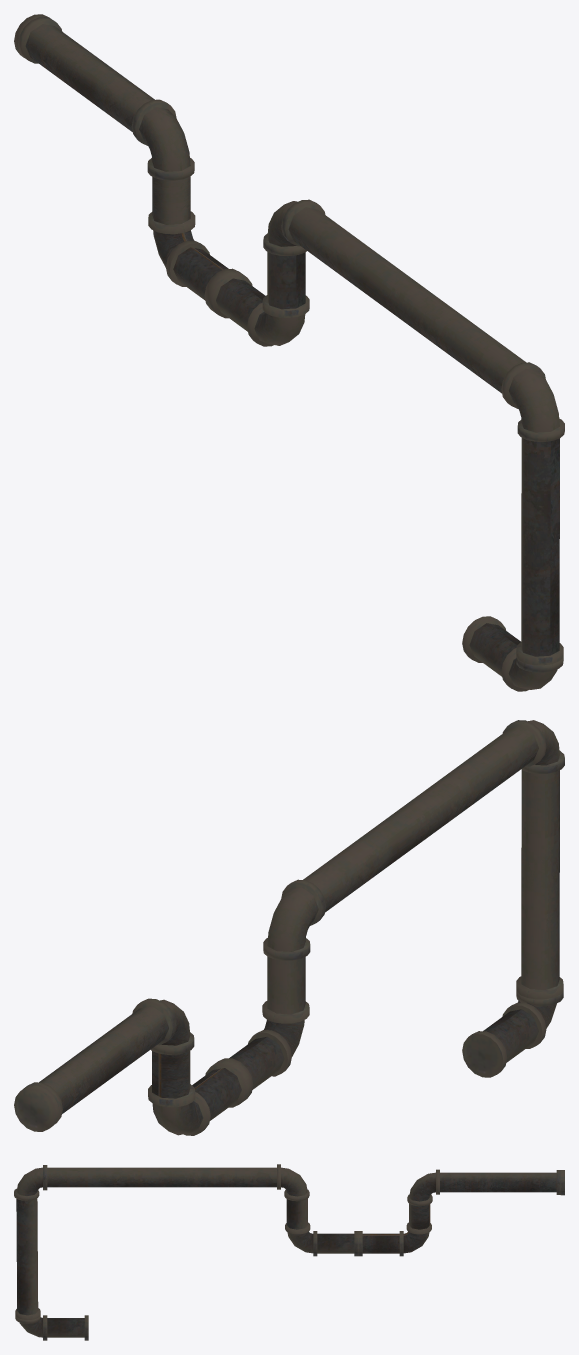
The model's file is pipe_2.glb.
3 views of the same model, one above another, from view 1: azimuth 30°, elevation 25°; view 2: azimuth 150°, elevation 25°; view 3: azimuth 270°, elevation 25° (orthographic). The views are drawn at different scales.
Visible parts, largest first — view 1: prefab_normalpipe2_randommachinerypipes_Material_000002_0; view 2: prefab_normalpipe2_randommachinerypipes_Material_000002_0; view 3: prefab_normalpipe2_randommachinerypipes_Material_000002_0.
Part boxes in pixels (<box>): prefab_normalpipe2_randommachinerypipes_Material_000002_0: <box>14,14,564,691</box>; prefab_normalpipe2_randommachinerypipes_Material_000002_0: <box>14,720,564,1135</box>; prefab_normalpipe2_randommachinerypipes_Material_000002_0: <box>14,1164,564,1340</box>.
Bounding box in the file's own units: 0.751 × 5.64 × 16.2.
1 material, 1 textured.
